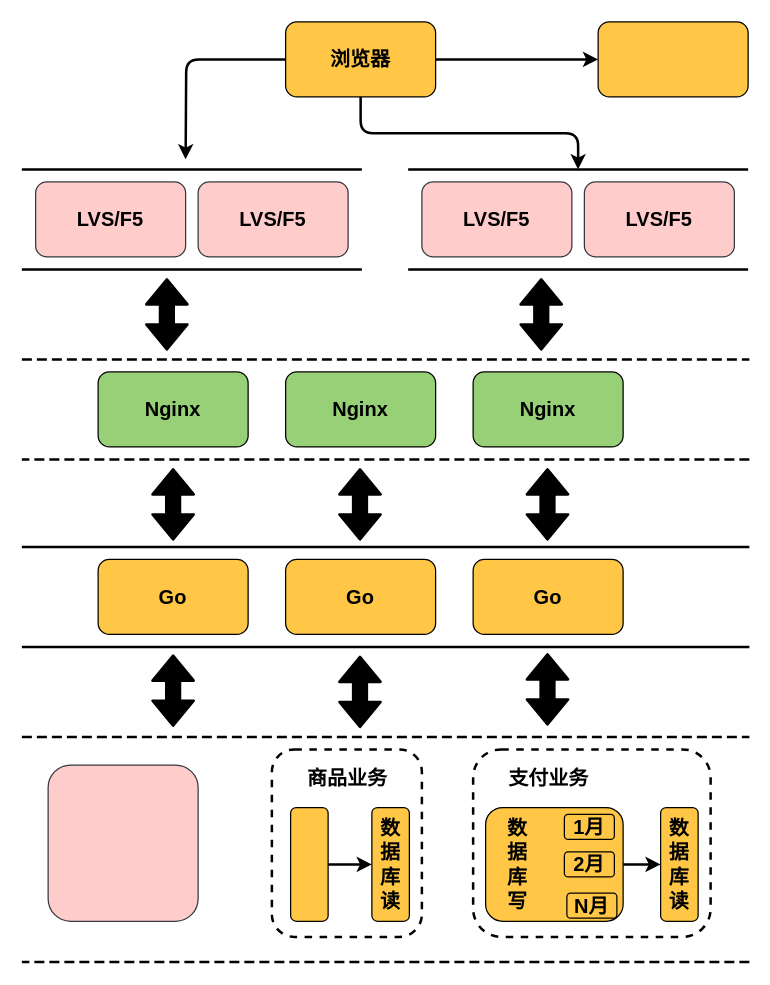
This 770x985 diagram has some shape labels left out. Here are the shapes that lost their labels. From the top down, the box of each, then its label:
(597, 21, 748, 97): DNS服务器
(47, 764, 198, 921): 分布式缓存
(289, 806, 328, 921): 数据库写
